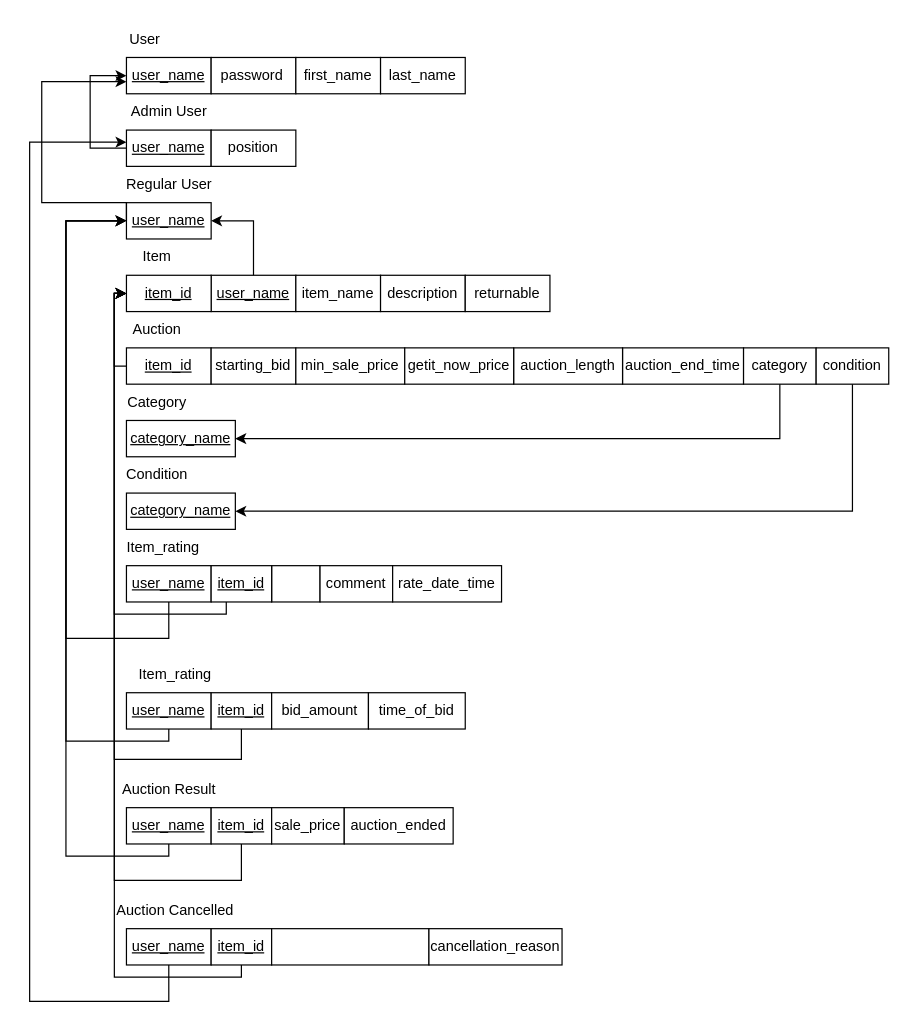
The diagram is 910 pixels wide and 1032 high, and some of its shapes have lost their labels. The box of each missing label's shape, as (x1, y1, x2, y2) in pixels:
cancellation_date_time: (270, 927, 429, 965)
stars: (270, 564, 320, 602)
